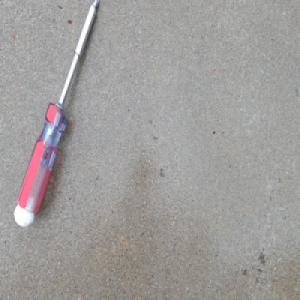Screwdriver: (12, 0, 99, 228)
